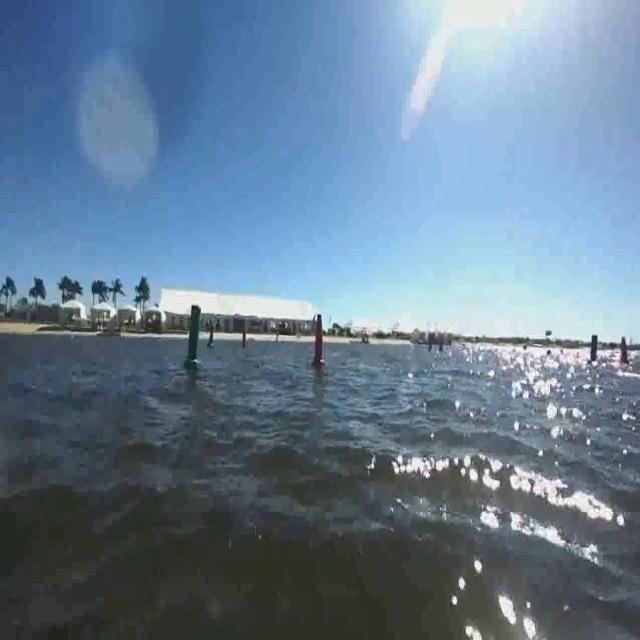green-column-buoy: (183, 302, 203, 369), (586, 335, 600, 368)
red-column-buoy: (311, 314, 328, 369), (618, 336, 631, 369)
